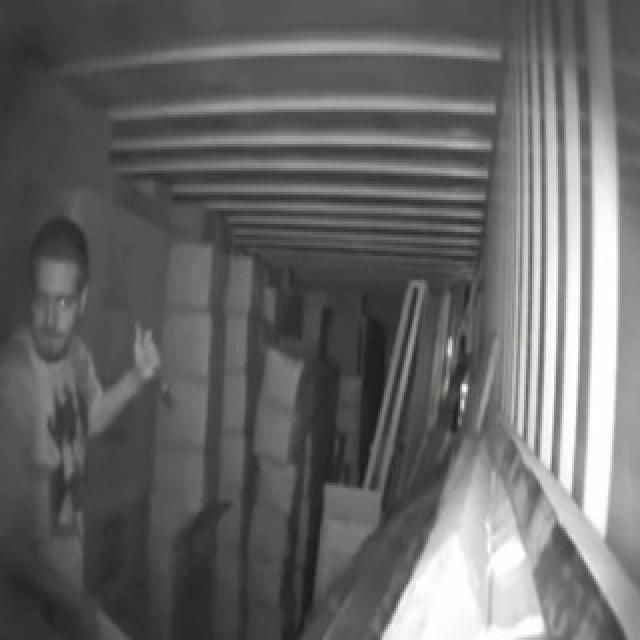thief: (0, 224, 170, 640)
